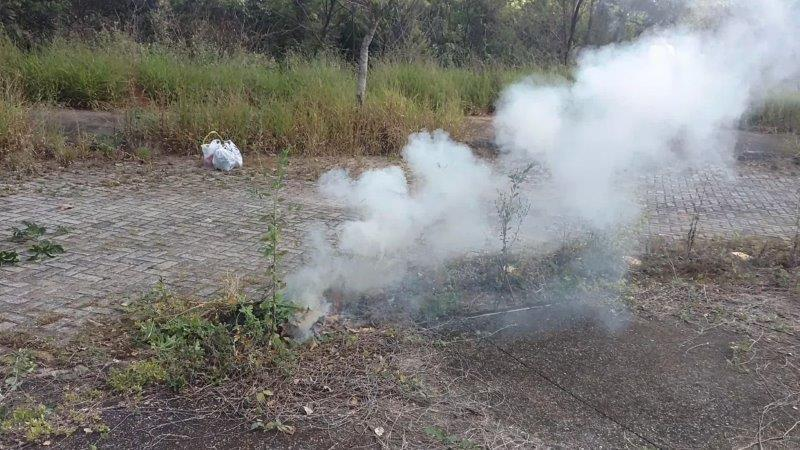smoke: (599, 49, 721, 174), (376, 167, 492, 267)
